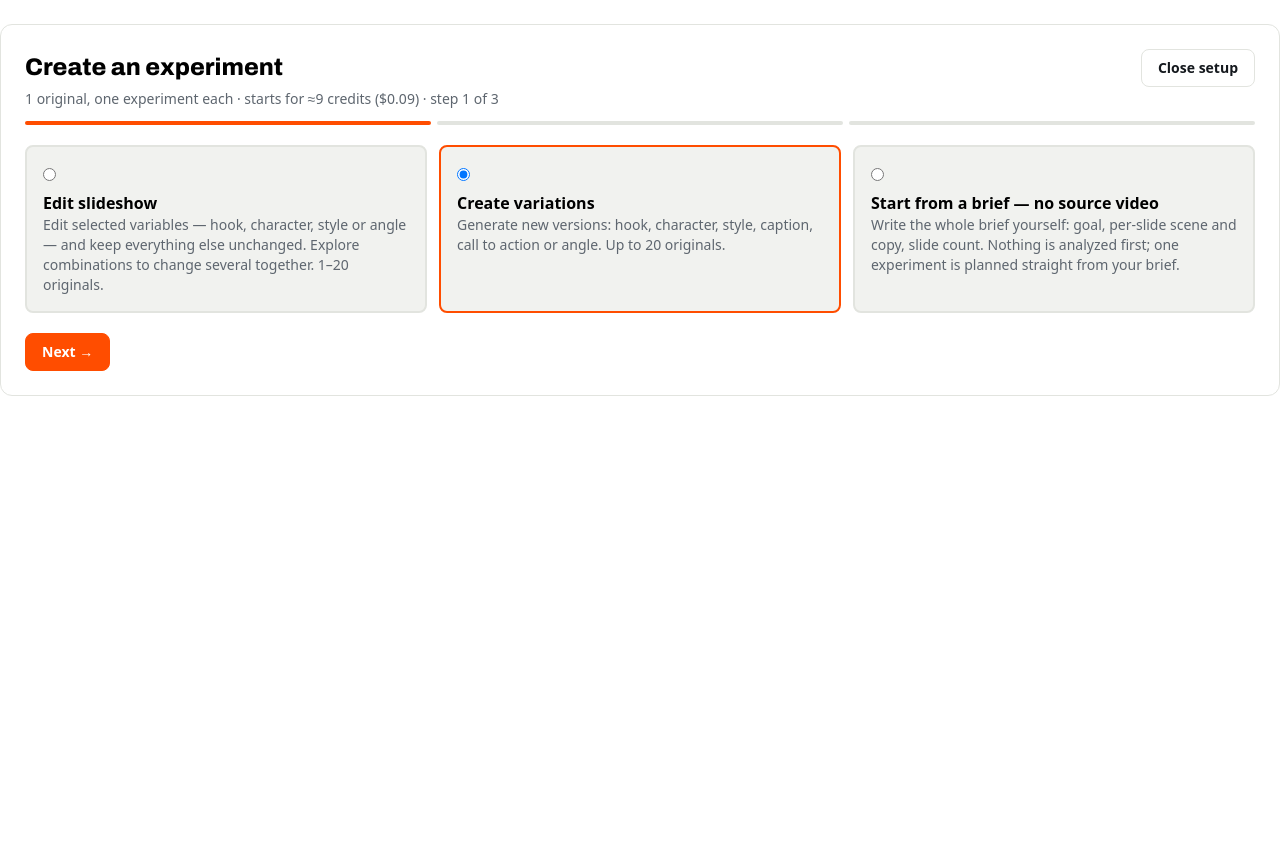
Test case: keeps the brand and language when replacing an example
This screenshot has width=1280, height=848.
Click the button "Next →" at (68, 352), box [25,333,110,371]
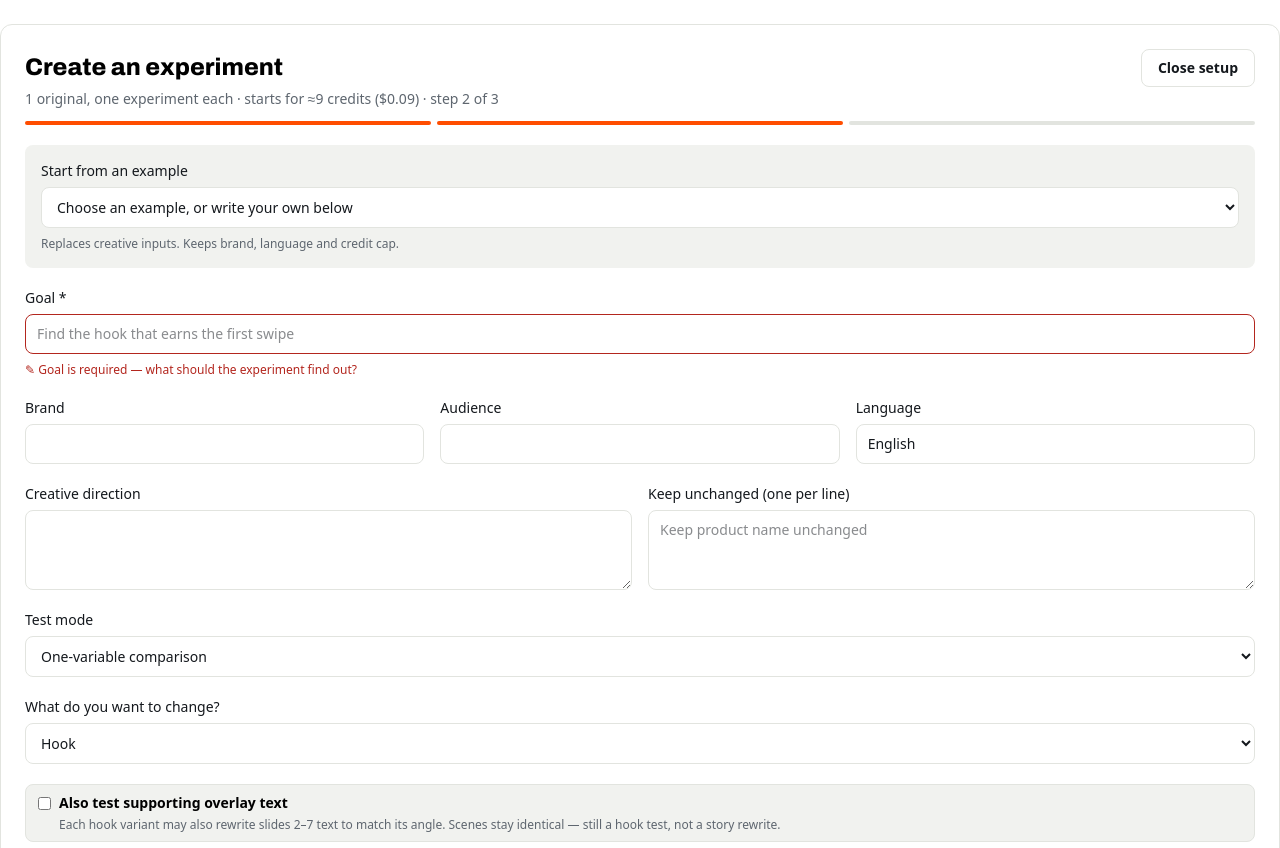
Type "My channel" into the field labelled "Brand" at (225, 444), box [25,424,424,464]
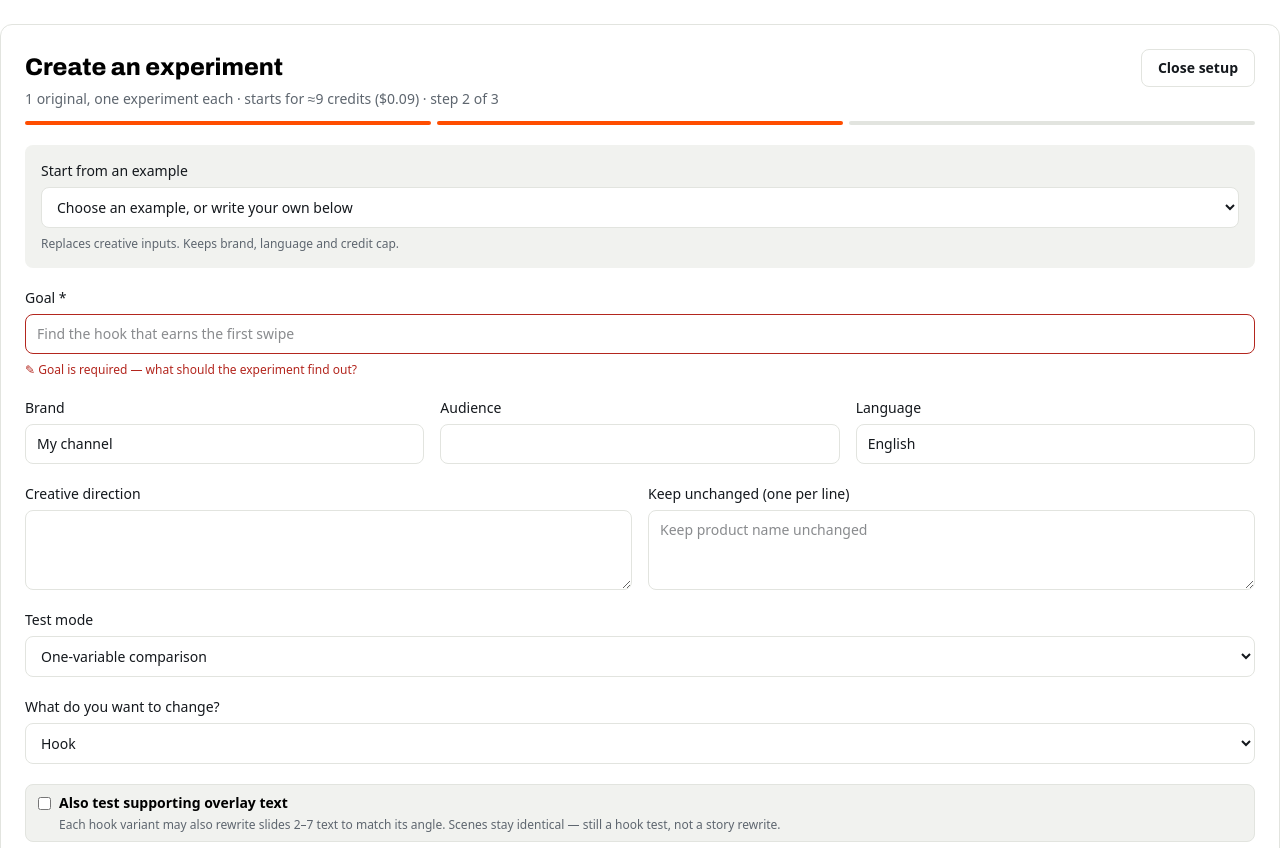
Select "Portrait style pilot" in the dropdown labelled "Start from an example" at (640, 208), box [41,187,1239,228]
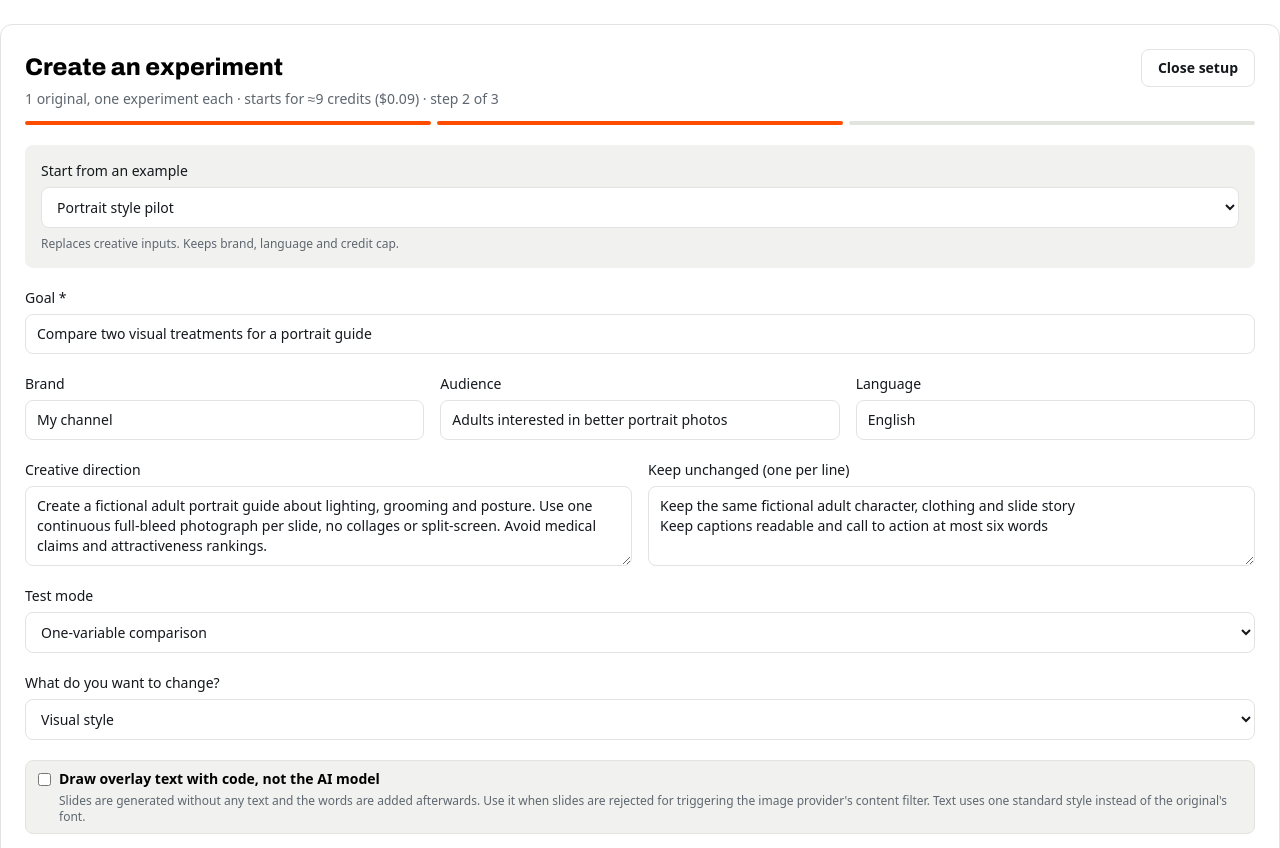
Select "Compare opening hooks" in the dropdown labelled "Start from an example" at (640, 208), box [41,187,1239,228]
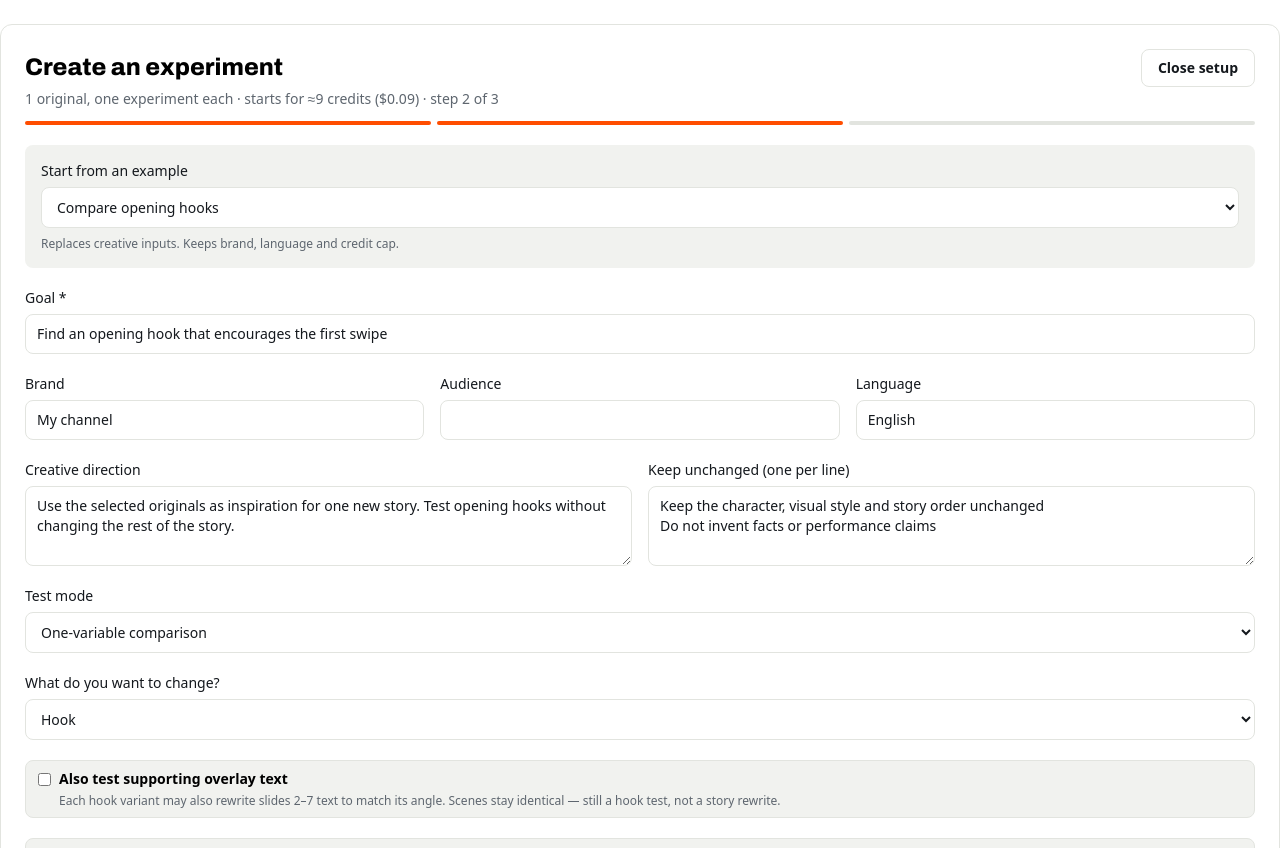
Now the dropdown labelled "What do you want to change?" shows "Hook", box [25,699,1255,740]
Now the field labelled "Audience" is empty, box [440,400,840,440]
